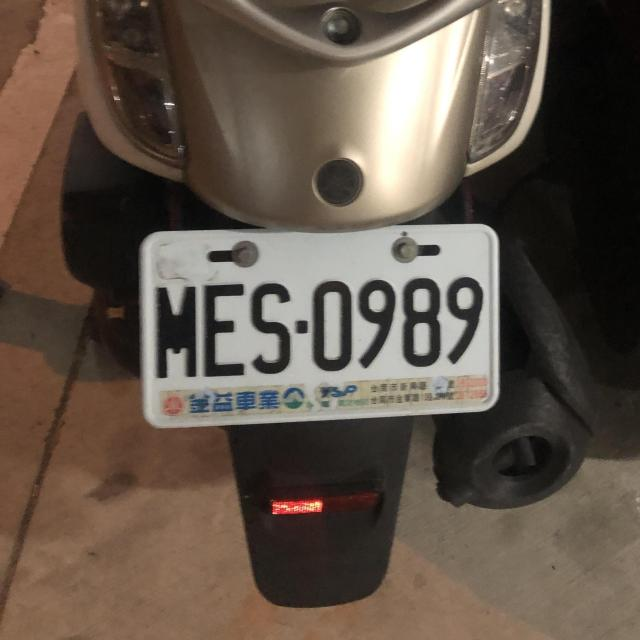W: (130, 214, 508, 433)
